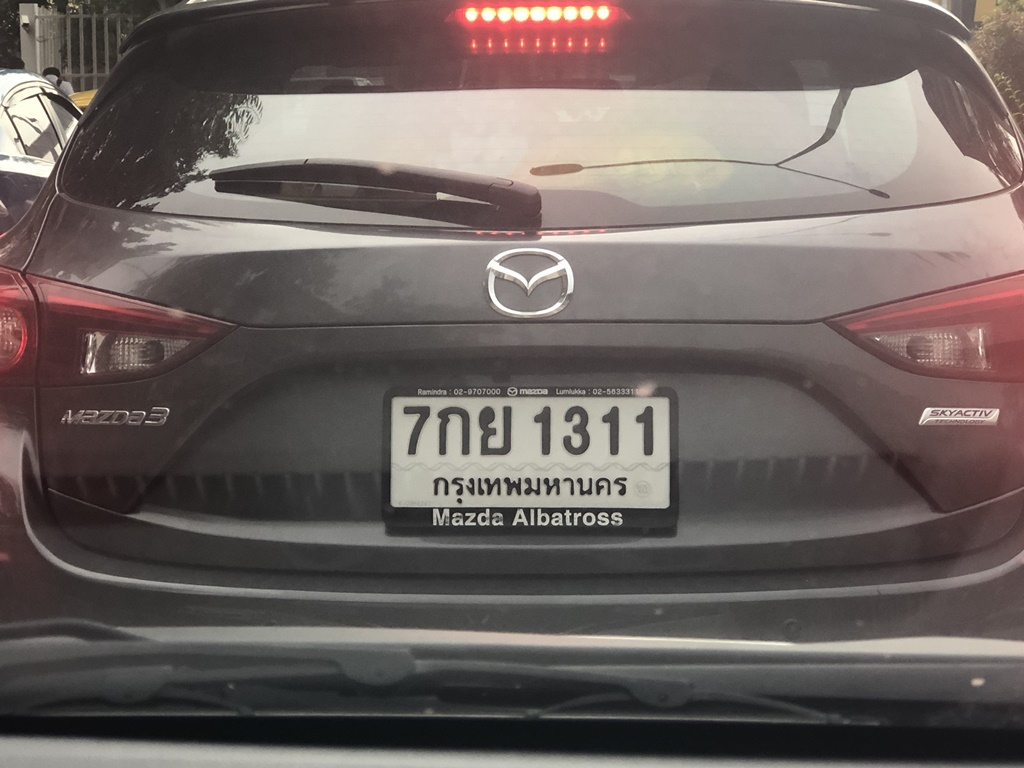one: (624, 402, 665, 464), (594, 402, 632, 467), (526, 391, 560, 459)
plate: (382, 385, 676, 525)
seven: (395, 396, 436, 464)
three: (550, 399, 595, 466)
